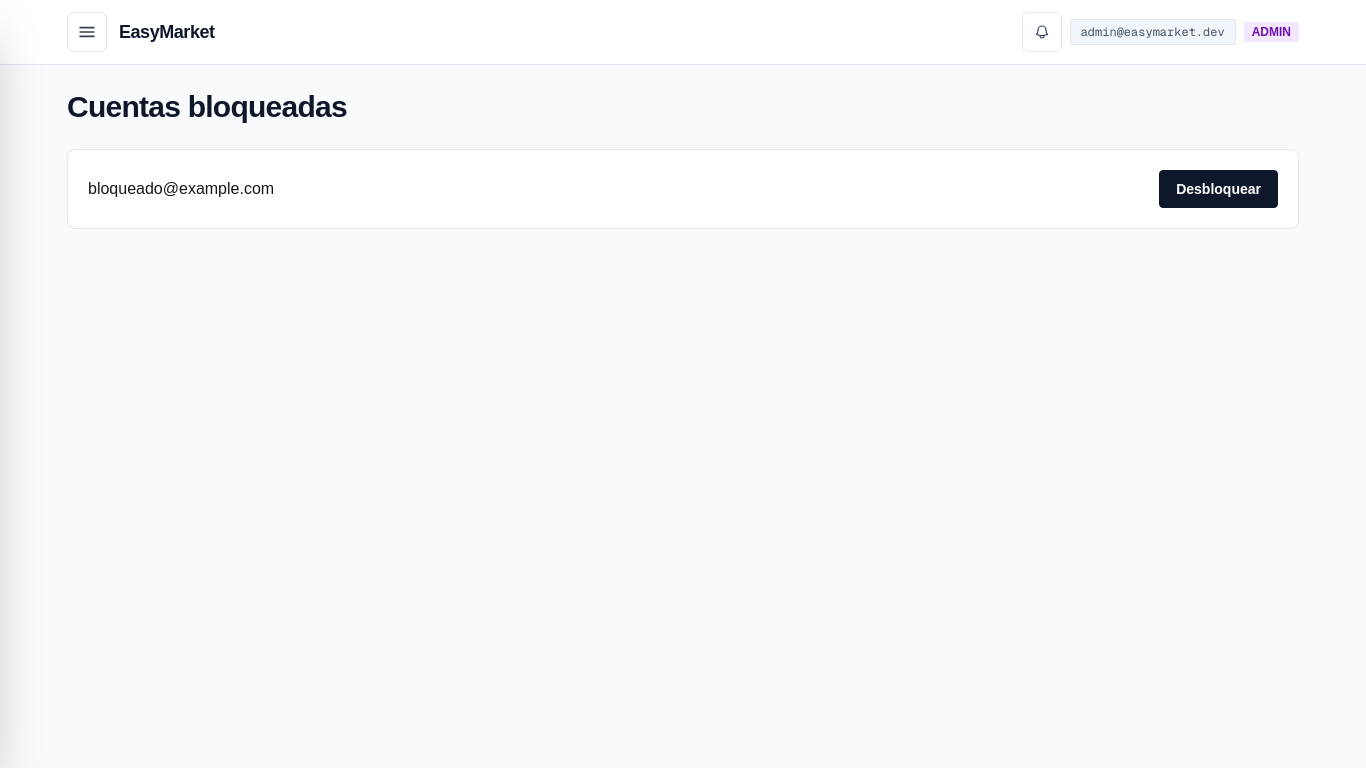
Scenario: PHA06TSK13 - rutas administrativas reales › cuentas bloqueadas carga usuarios reales y desbloquea por usuarioId sin body
Expected: the text "bloqueado@example.com" is shown, 88,177 -> 274,201
Click the button "Desbloquear" at (1219,189), box 1159,170 -> 1278,208
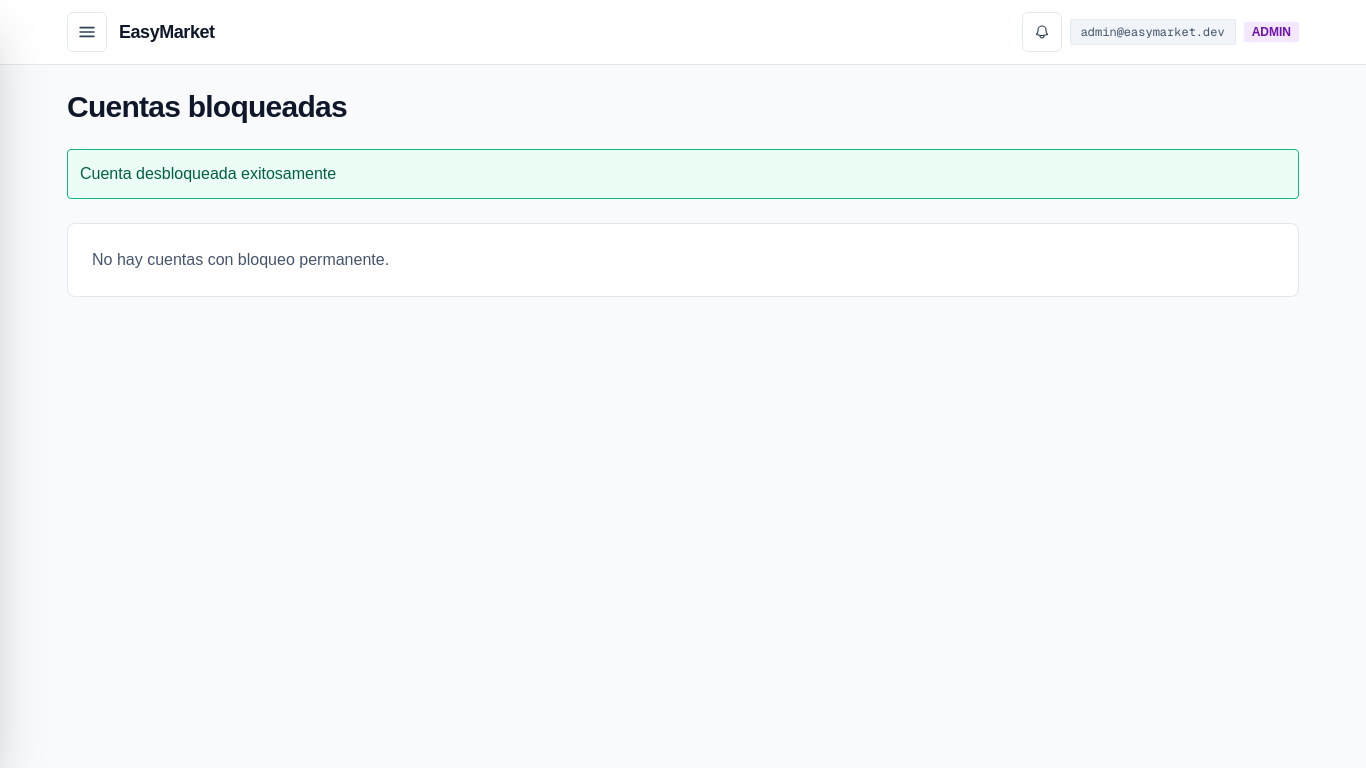
Expected: the text "Cuenta desbloqueada exitosamente" is shown, 67,149 -> 1299,199
Expected: the text "bloqueado@example.com" is gone
